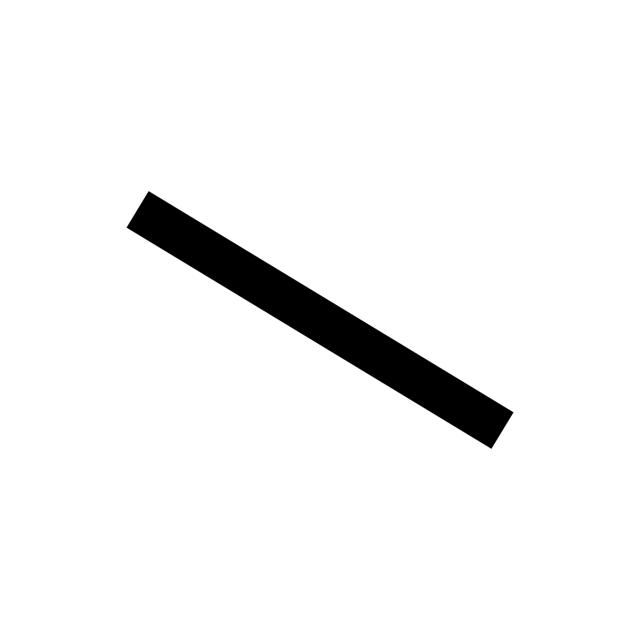line: (126, 192, 513, 448)
